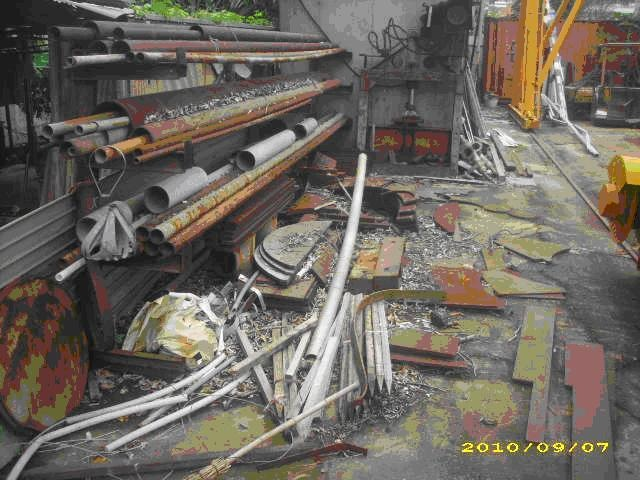plastic_bag: (124, 298, 215, 354)
